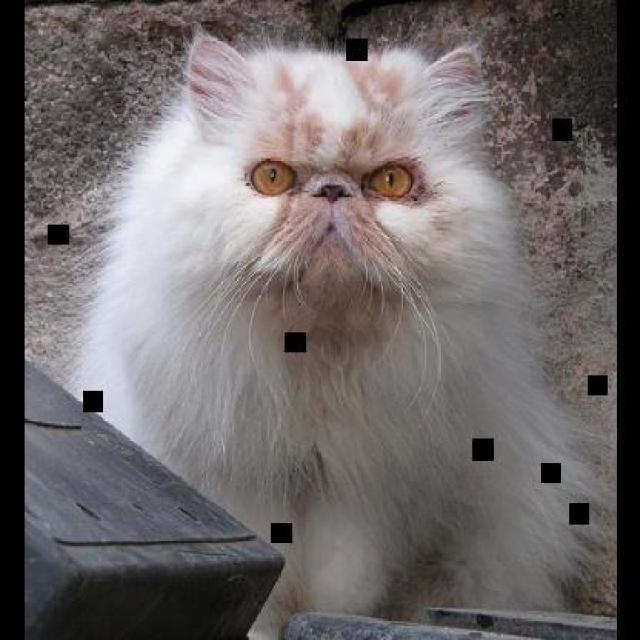unauthorized: (63, 21, 612, 638)
